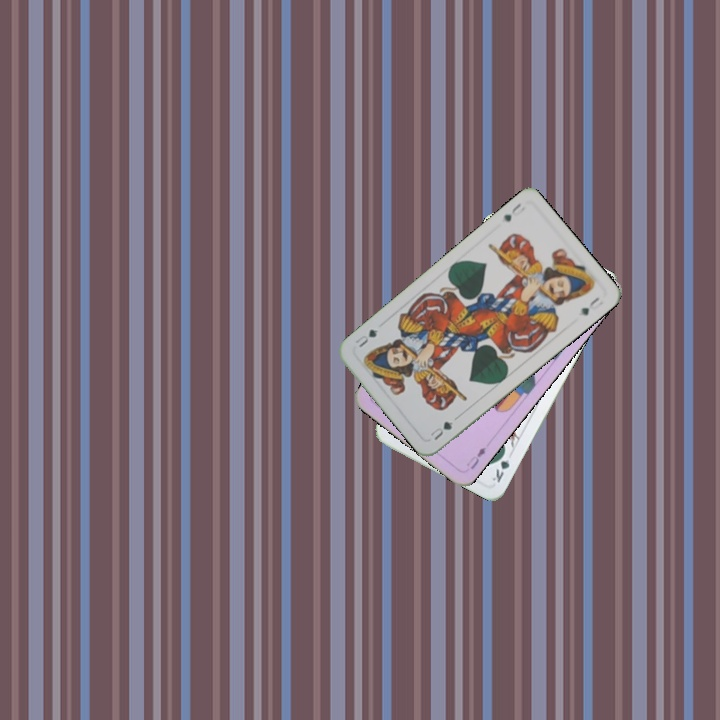EU: (462, 443, 489, 472)
GK: (488, 446, 512, 485)
GU: (426, 417, 456, 443), (499, 199, 524, 224)
